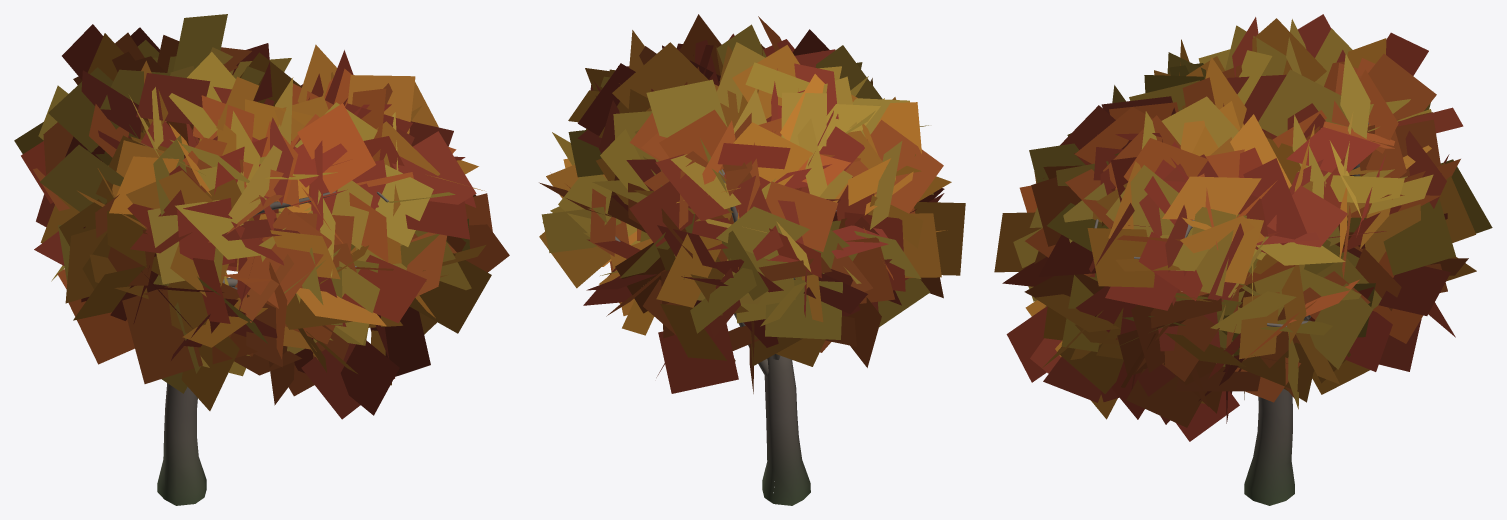
File: broadleaf.maple.autumn.glb
The picture shows the model from 3 angles, left to right: view 1: azimuth 30°, elevation 25°; view 2: azimuth 150°, elevation 25°; view 3: azimuth 270°, elevation 25°; orthographic projection. The views are drawn at different scales.
Parts seen in each view (by area): view 1: broadleaf_maple_autumn; view 2: broadleaf_maple_autumn; view 3: broadleaf_maple_autumn.
Boxes of the visible parts, <box> form: broadleaf_maple_autumn: <box>14,14,509,505</box>; broadleaf_maple_autumn: <box>539,14,965,505</box>; broadleaf_maple_autumn: <box>994,14,1492,505</box>.
Size of what is drawn, in the model's own units: 6.82 by 7.12 by 6.99.
